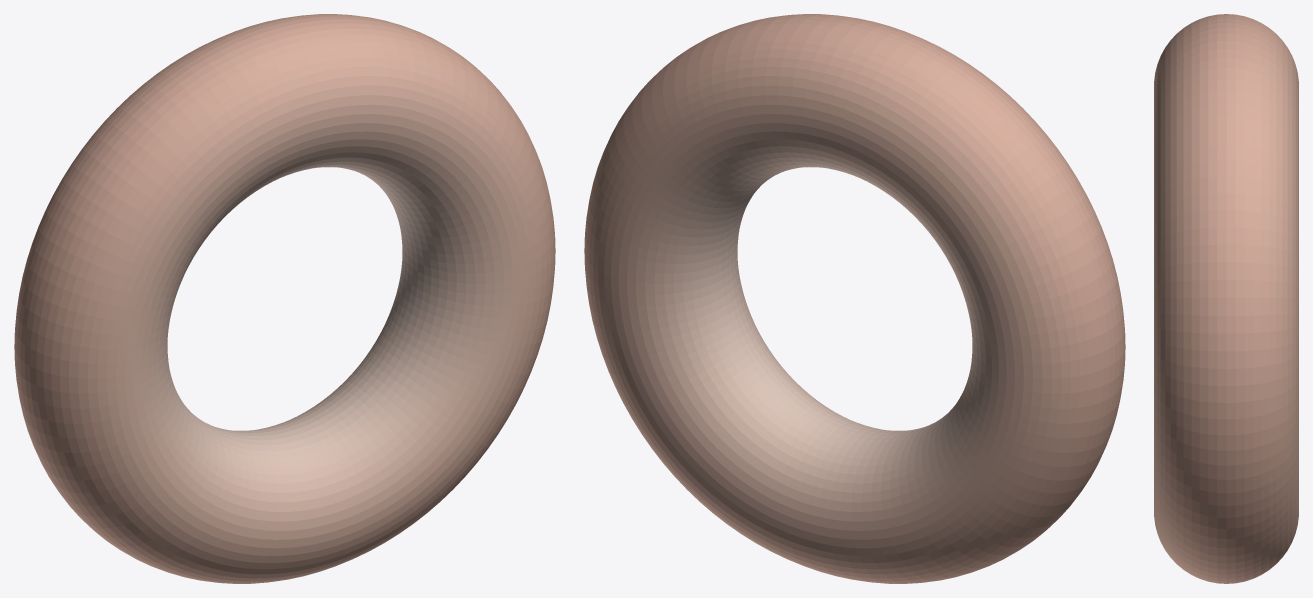
The picture shows the model from 3 angles, left to right: view 1: azimuth 30°, elevation 25°; view 2: azimuth 150°, elevation 25°; view 3: azimuth 270°, elevation 25°; orthographic projection. The views are drawn at different scales.
Parts seen in each view (by area): view 1: world; view 2: world; view 3: world.
Part boxes in pixels (x1,y1,x2,y2): world: (14, 14, 555, 583); world: (584, 14, 1125, 583); world: (1154, 14, 1298, 583).
Bounding box in the file's own units: 27.73 × 27.73 × 7.05.
